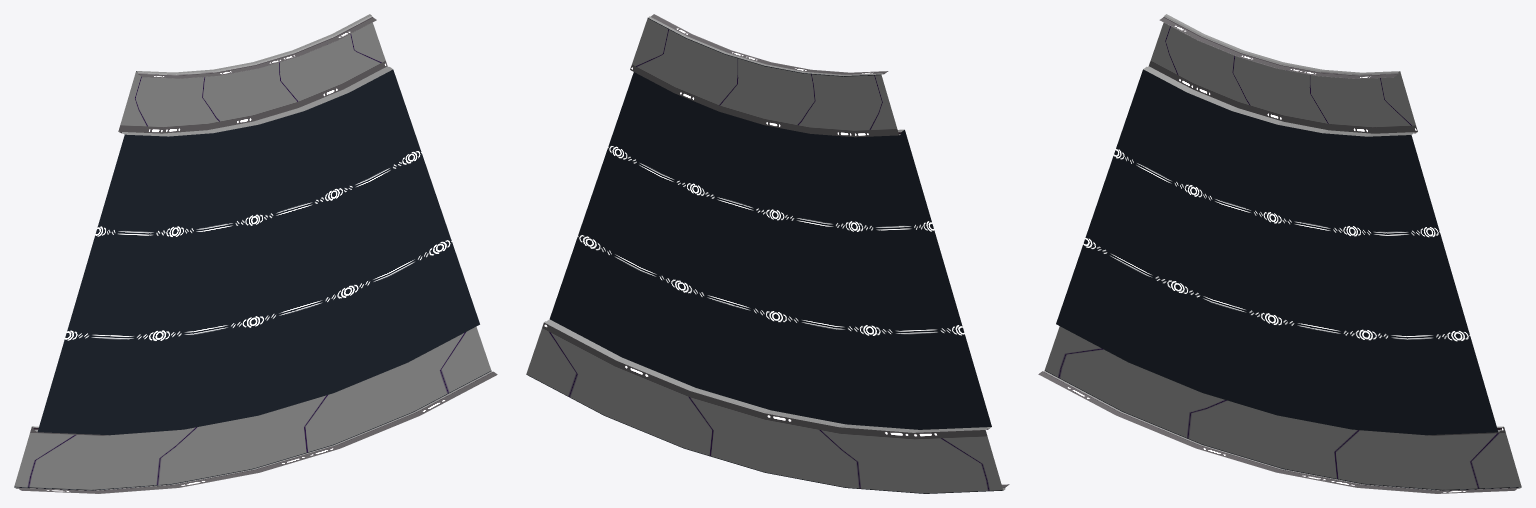
Rendered from SM_M_Road45.fbx.
3 renders of one model, left to right at view 1: azimuth 30°, elevation 25°; view 2: azimuth 150°, elevation 25°; view 3: azimuth 330°, elevation 25°, orthographic.
Visible parts, largest first — view 1: SM_M_Road45; view 2: SM_M_Road45; view 3: SM_M_Road45.
Boxes of the visible parts, bbox=[...] form: SM_M_Road45: bbox=[14, 14, 497, 493]; SM_M_Road45: bbox=[526, 14, 1009, 493]; SM_M_Road45: bbox=[1038, 14, 1521, 493].
Size of the model in its own units: 4834 by 4129 by 119.
